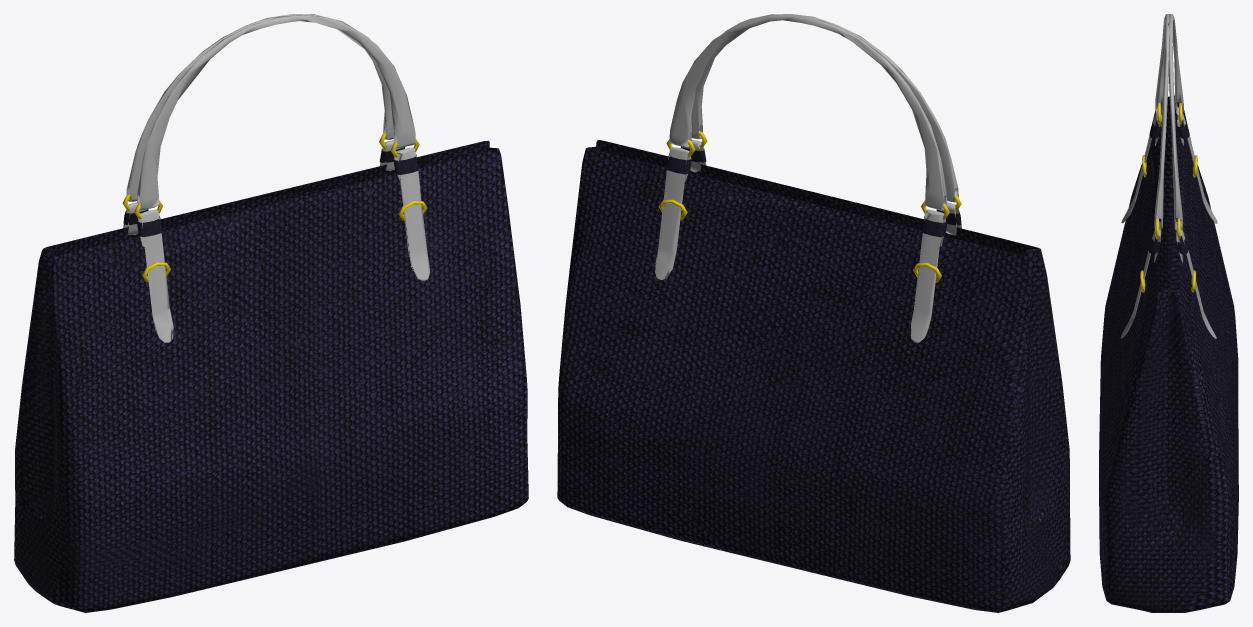
File: Bag.fbx
3 views of the same model, side by side, from view 1: azimuth 30°, elevation 25°; view 2: azimuth 150°, elevation 25°; view 3: azimuth 270°, elevation 25° (orthographic). The views are drawn at different scales.
Parts seen in each view (by area): view 1: Bag01; view 2: Bag01; view 3: Bag01.
Part boxes in pixels (x1,y1,x2,y2): Bag01: (14,14,528,612); Bag01: (557,14,1070,612); Bag01: (1099,14,1238,612).
Size of the model in its own units: 32.71 by 35.5 by 9.25.
Materials: 3 (1 with a texture image).
